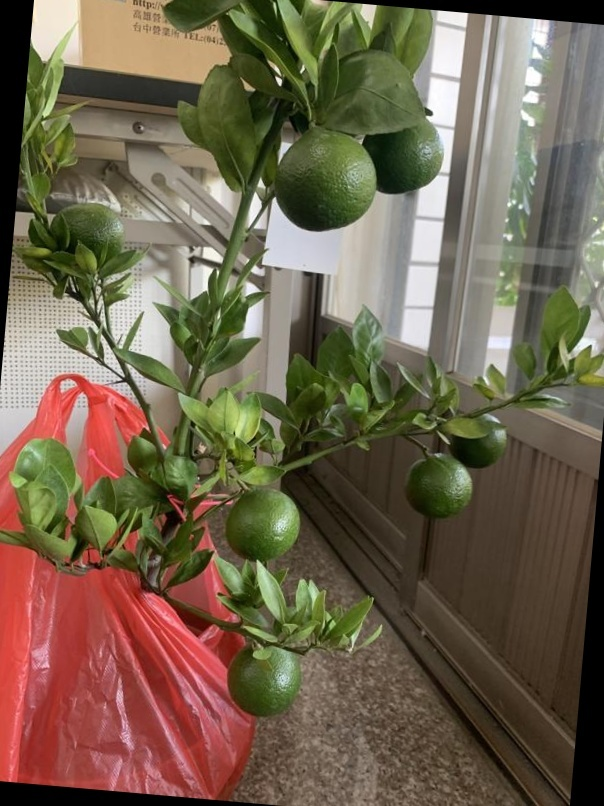Tangerine: (273, 125, 379, 232), (363, 114, 441, 195), (222, 486, 300, 562), (225, 641, 305, 715), (48, 199, 125, 265), (402, 454, 476, 517)
